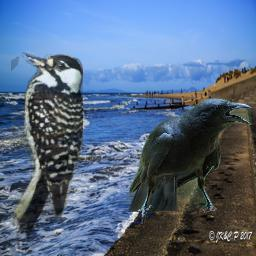Crow: (125, 98, 252, 224)
Woodpecker: (11, 51, 83, 246)
